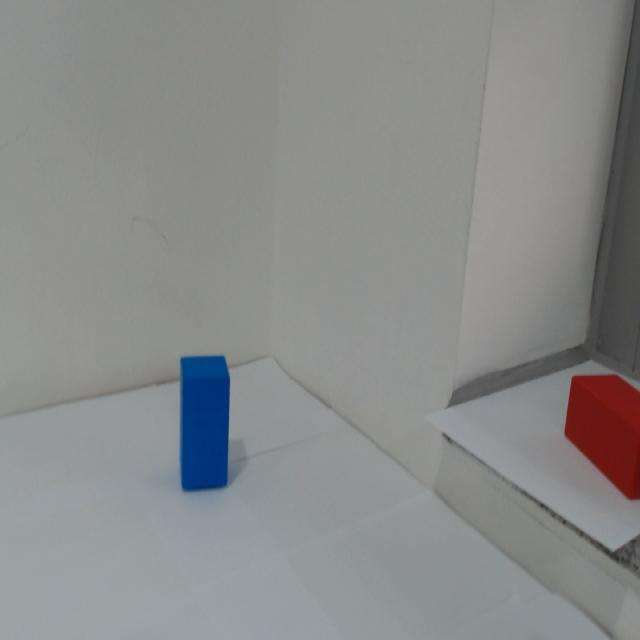cube: (177, 350, 248, 511)
